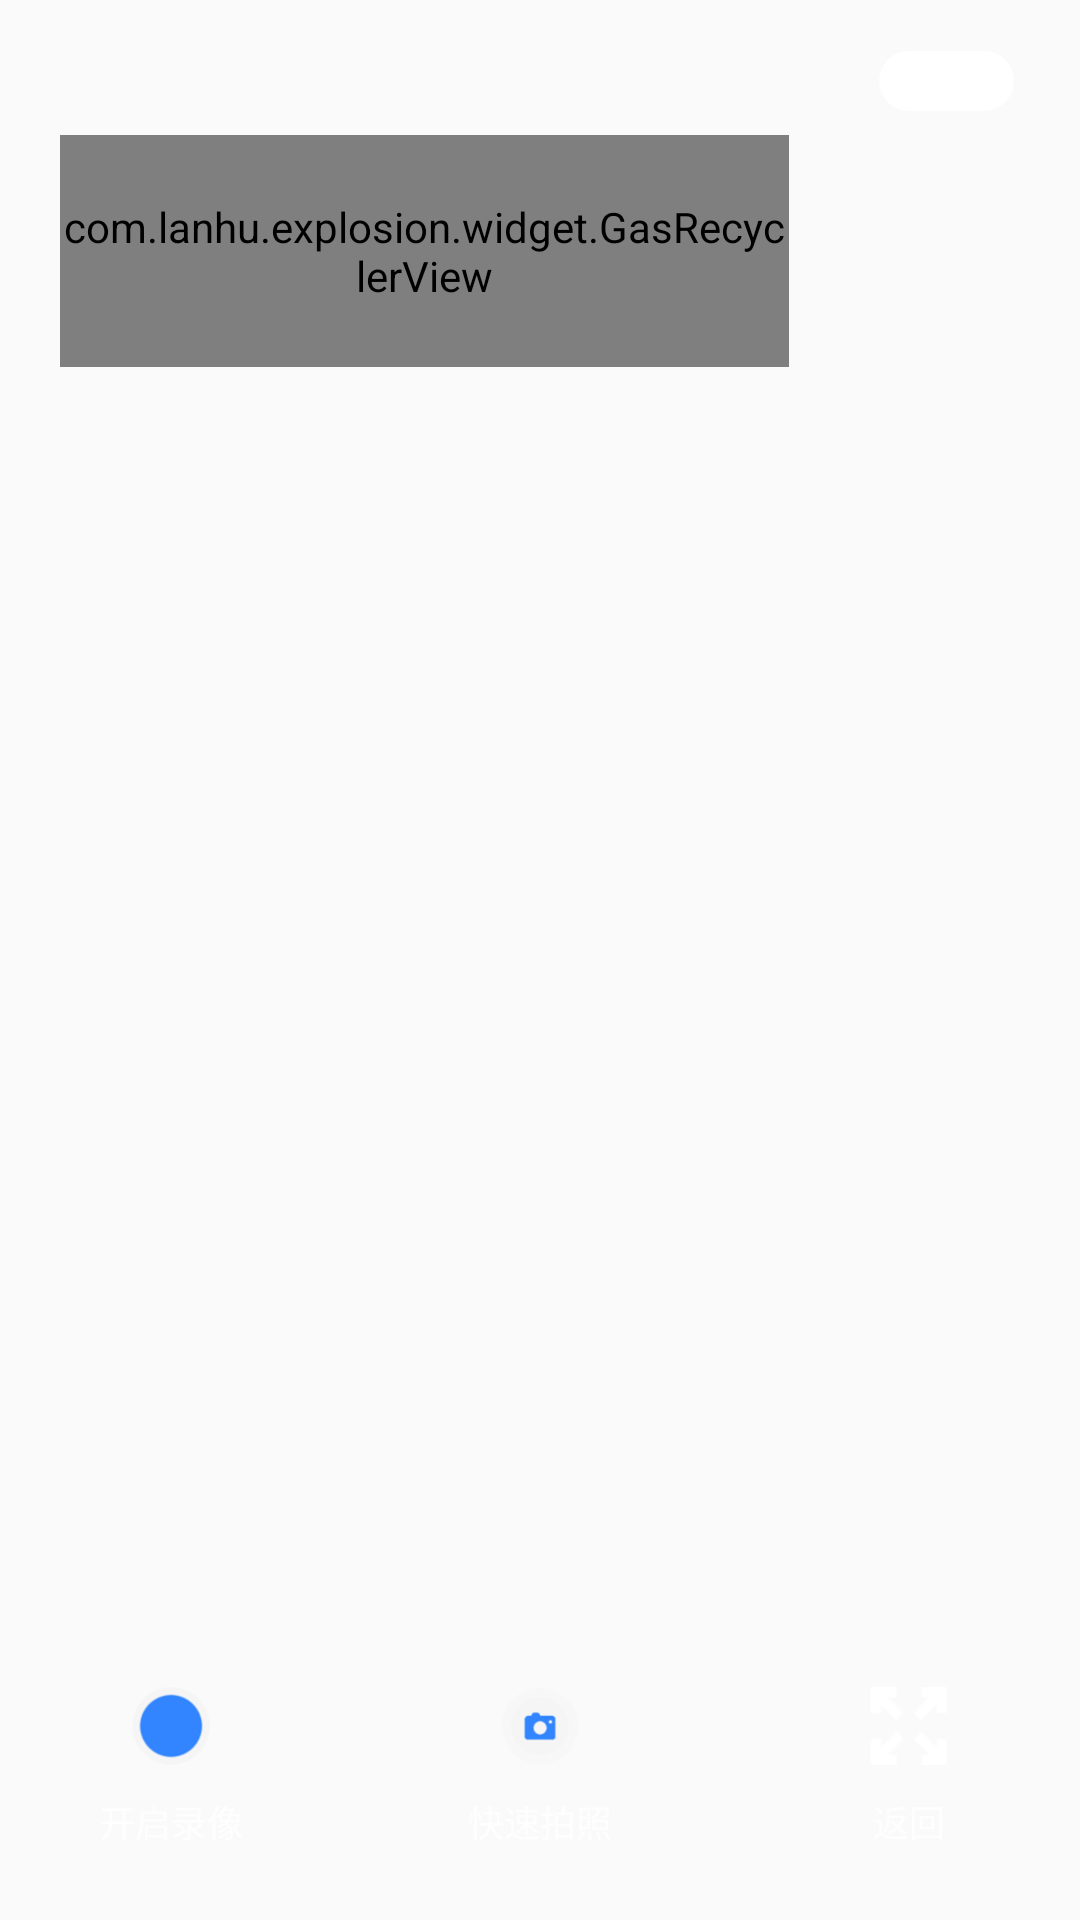

Icons on this 1080px x 1920px Android screen, each with the point to tap as point (x, y):
camera: point (540, 1726)
